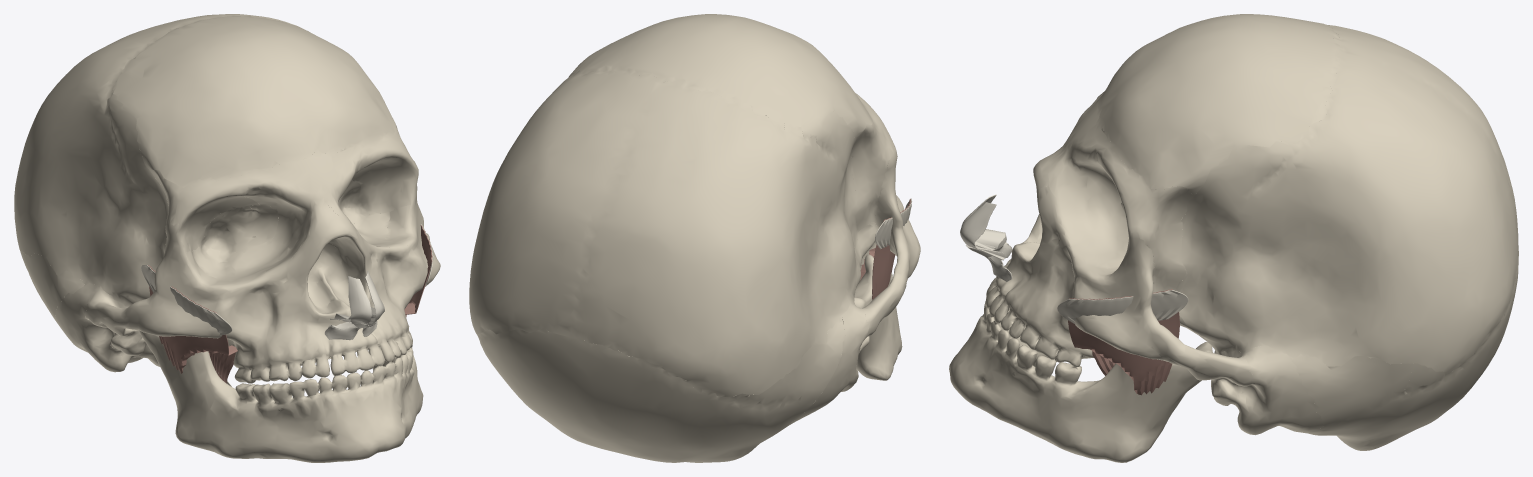
Rendered from editorial-female-bone.glb.
3 views of the same model, side by side, from view 1: azimuth 30°, elevation 25°; view 2: azimuth 150°, elevation 25°; view 3: azimuth 270°, elevation 25° (orthographic). The views are drawn at different scales.
Visible parts, largest first — view 1: editorial-female-illustrative-bone, Masseter -1, Zygomatic aponeurosis -1, Upper lateral cartilage -1, Masseter 1, Alar cartilage -1, Upper lateral cartilage 1; view 2: editorial-female-illustrative-bone, Masseter -1, Zygomatic aponeurosis -1; view 3: editorial-female-illustrative-bone, Masseter 1, Zygomatic aponeurosis 1, Upper lateral cartilage 1, Upper lateral cartilage -1.
Boxes of the visible parts, x1,y1,x2,y2 form: editorial-female-illustrative-bone: (14,14,440,462); Masseter -1: (148,265,237,383); Zygomatic aponeurosis -1: (141,265,232,335); Upper lateral cartilage -1: (330,276,372,323); Masseter 1: (404,225,432,316); Alar cartilage -1: (324,322,368,340); Upper lateral cartilage 1: (365,271,384,323); editorial-female-illustrative-bone: (469,14,920,462); Masseter -1: (860,198,911,299); Zygomatic aponeurosis -1: (875,198,911,248); editorial-female-illustrative-bone: (949,14,1518,462); Masseter 1: (1068,289,1179,395); Zygomatic aponeurosis 1: (1057,290,1188,324); Upper lateral cartilage 1: (960,202,1005,260); Upper lateral cartilage -1: (961,194,1006,250).
Bounding box in the file's own units: 0.1549 × 0.1677 × 0.2251.
